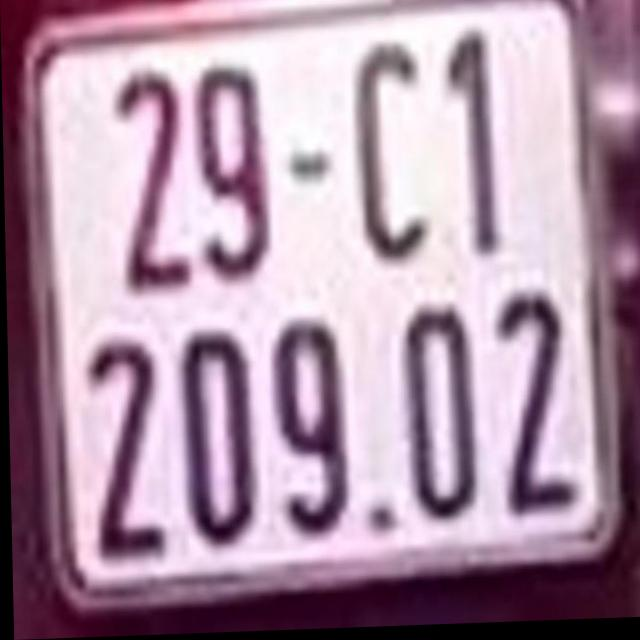0: (403, 300, 487, 521), (176, 329, 258, 544)
1: (451, 30, 521, 263)
2: (80, 337, 177, 563), (493, 296, 580, 524), (113, 65, 198, 297)
9: (272, 318, 359, 542), (198, 64, 274, 286)
C: (352, 45, 441, 270)
